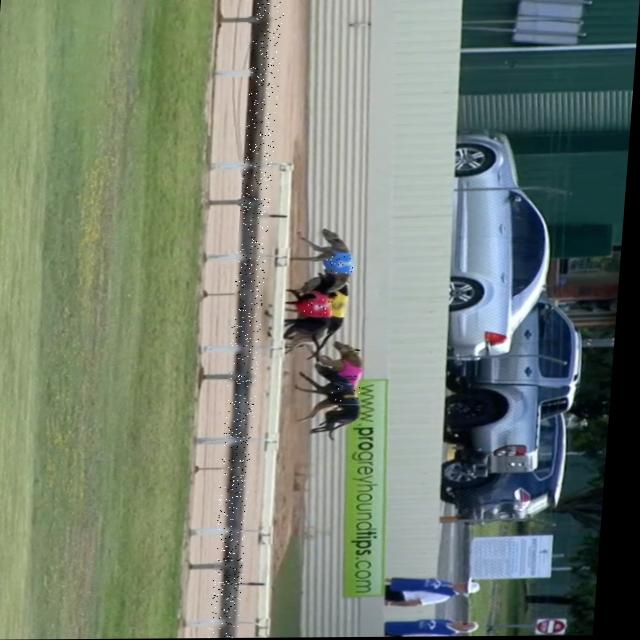dog_eight: (341, 369, 366, 385)
dog_five: (332, 297, 352, 314)
dog_four: (329, 257, 357, 274)
dog_one: (306, 299, 336, 316)
dog_seven: (335, 387, 366, 404)
rail: (226, 0, 270, 638)
